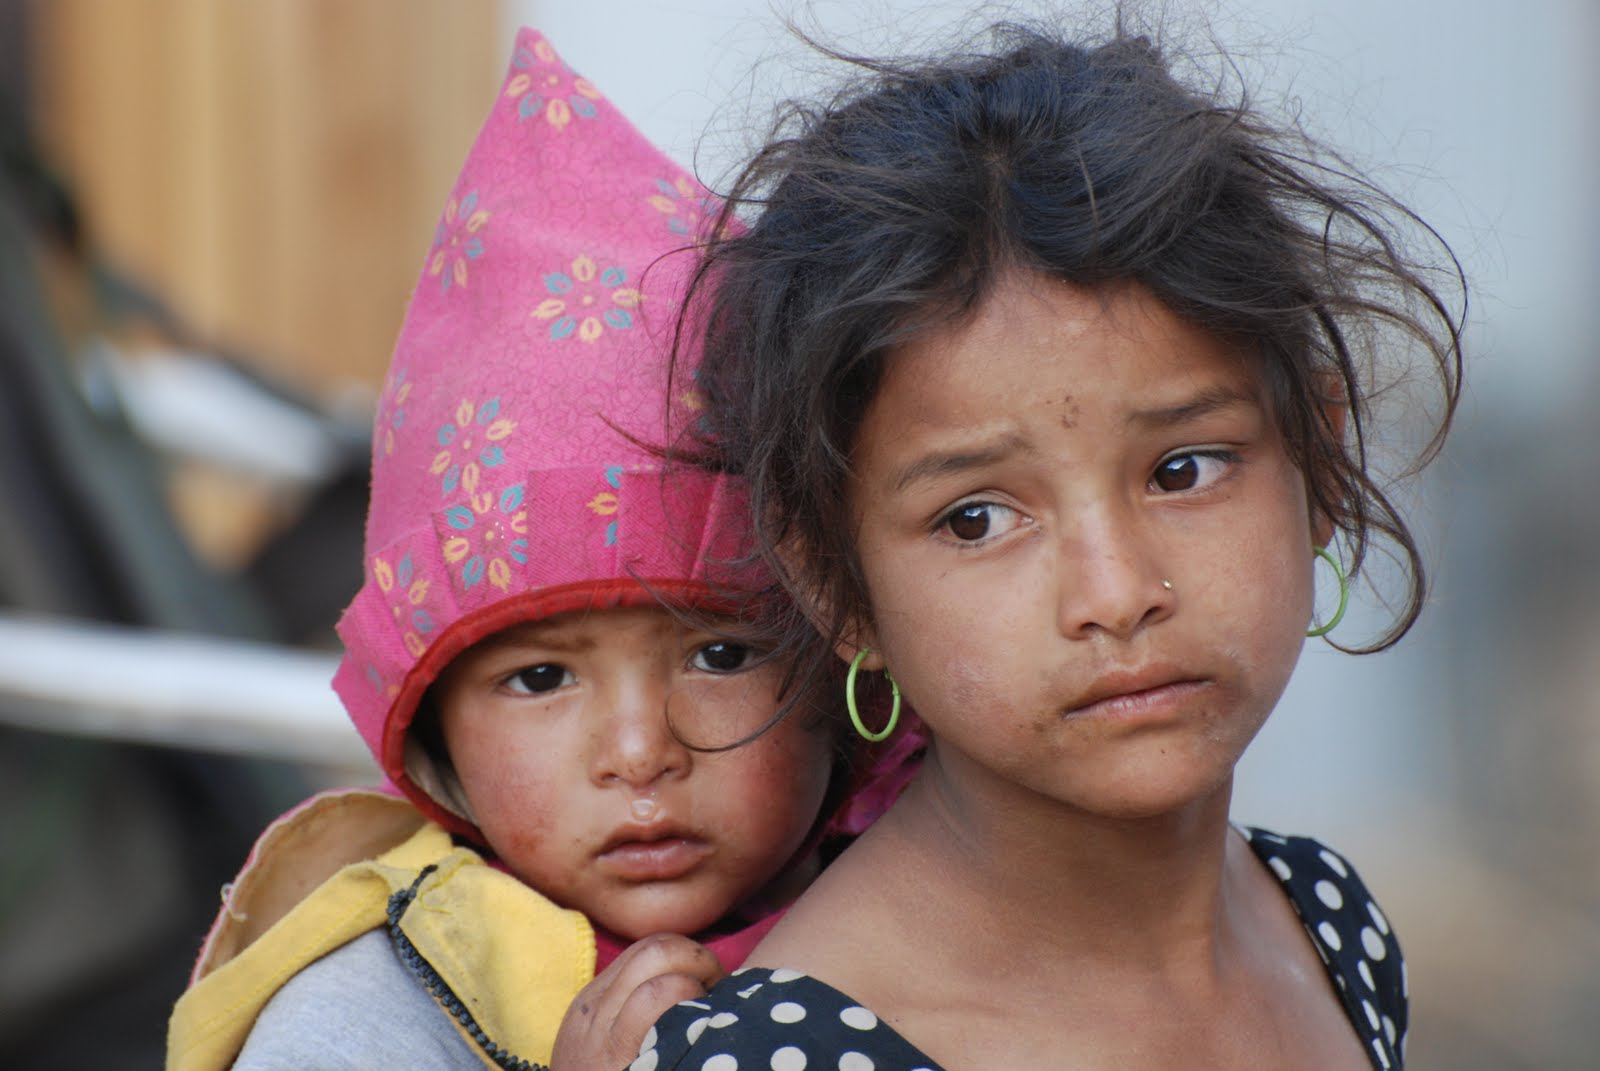human: (598, 48, 1460, 1071), (123, 20, 864, 1071)
